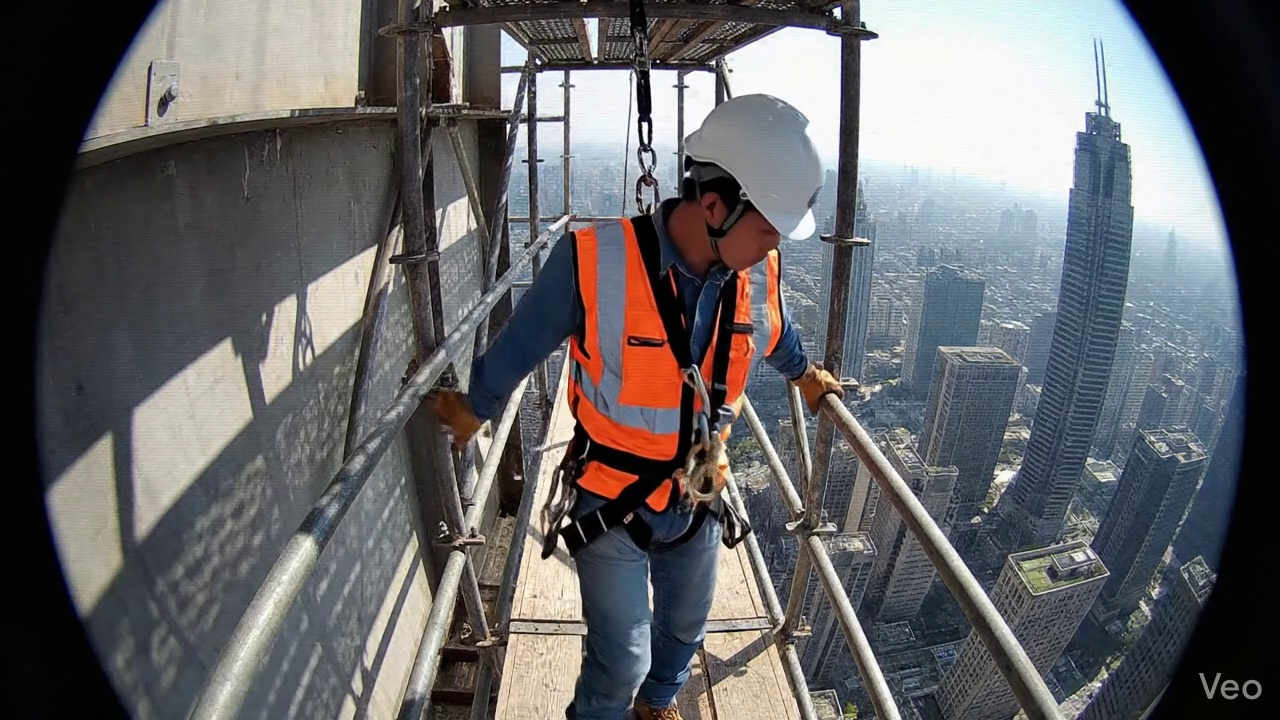person: (430, 94, 842, 719), (552, 485, 554, 498)
